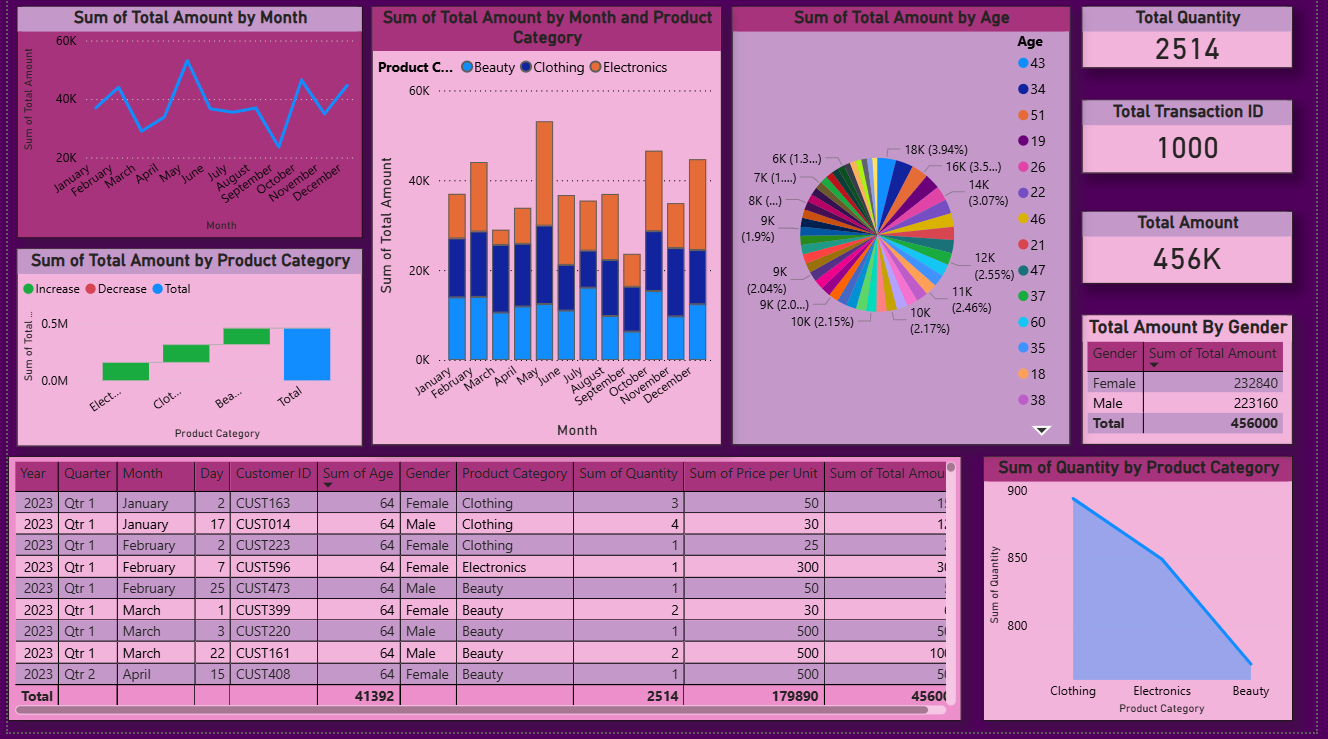

The dashboard page shown, as its layout file describes it:
{"tool":"powerbi","page":{"name":"Page 1","canvas":[1280,720],"ordinal":0},"visuals":[{"type":"card","title":"Total Amount","fields":{"Values":["Sum(retail_sales_dataset.Total Amount)"]},"box":[1050.4,210.3,206.7,70.9],"z":0},{"type":"card","title":"Total Quantity","fields":{"Values":["Sum(retail_sales_dataset.Quantity)"]},"box":[1050.4,9.8,206.7,61.1],"z":1000},{"type":"card","title":"Total Transaction ID","fields":{"Values":["Count(retail_sales_dataset.Transaction ID)"]},"box":[1050.4,101.5,206.7,72.1],"z":2000},{"type":"lineChart","fields":{"Category":["retail_sales_dataset.Date.Variation.Date Hierarchy.Month"],"Y":["Sum(retail_sales_dataset.Total Amount)"]},"box":[8.6,9.8,338.7,227.4],"z":3000},{"type":"waterfallChart","fields":{"Category":["retail_sales_dataset.Product Category"],"Y":["Sum(retail_sales_dataset.Total Amount)"]},"box":[8.6,247,338.7,193.2],"z":4000},{"type":"areaChart","fields":{"Category":["retail_sales_dataset.Product Category"],"Y":["Sum(retail_sales_dataset.Quantity)"]},"box":[953.8,450,303.3,259.2],"z":5000},{"type":"pivotTable","title":"Total Amount By Gender","fields":{"Rows":["retail_sales_dataset.Gender"],"Values":["Sum(retail_sales_dataset.Total Amount)"]},"box":[1050.4,311.8,206.7,127.2],"z":6000},{"type":"pieChart","fields":{"Category":["retail_sales_dataset.Age"],"Y":["Sum(retail_sales_dataset.Total Amount)"]},"box":[708,9.8,331.4,429.2],"z":7000},{"type":"tableEx","fields":{"Values":["retail_sales_dataset.Date.Variation.Date Hierarchy.Year","retail_sales_dataset.Date.Variation.Date Hierarchy.Quarter","retail_sales_dataset.Date.Variation.Date Hierarchy.Month","retail_sales_dataset.Date.Variation.Date Hierarchy.Day","retail_sales_dataset.Customer ID","Sum(retail_sales_dataset.Age)","retail_sales_dataset.Gender","retail_sales_dataset.Product Category","Sum(retail_sales_dataset.Quantity)","Sum(retail_sales_dataset.Price per Unit)","Sum(retail_sales_dataset.Total Amount)"]},"box":[0,450,933,259.2],"z":8000},{"type":"columnChart","fields":{"Category":["retail_sales_dataset.Date.Variation.Date Hierarchy.Month"],"Series":["retail_sales_dataset.Product Category"],"Y":["Sum(retail_sales_dataset.Total Amount)"]},"box":[355.8,9.8,342.4,429.2],"z":9000}]}

Visuals, with their boxes in screenshot pixels (x1, y1, x2, y2), scaled from the page's 1280x720 canvas onto the 1328x739 screenshot:
"Total Amount" card: 1090/216/1304/289
"Total Quantity" card: 1090/10/1304/73
"Total Transaction ID" card: 1090/104/1304/178
lineChart - retail_sales_dataset.Date.Variation.Date Hierarchy.Month x Sum(retail_sales_dataset.Total Amount): 9/10/360/243
waterfallChart - retail_sales_dataset.Product Category x Sum(retail_sales_dataset.Total Amount): 9/254/360/452
areaChart - retail_sales_dataset.Product Category x Sum(retail_sales_dataset.Quantity): 990/462/1304/728
"Total Amount By Gender" pivotTable: 1090/320/1304/451
pieChart - retail_sales_dataset.Age x Sum(retail_sales_dataset.Total Amount): 735/10/1078/451
tableEx - retail_sales_dataset.Date.Variation.Date Hierarchy.Year x retail_sales_dataset.Date.Variation.Date Hierarchy.Quarter: 0/462/968/728
columnChart - retail_sales_dataset.Date.Variation.Date Hierarchy.Month x retail_sales_dataset.Product Category: 369/10/724/451
